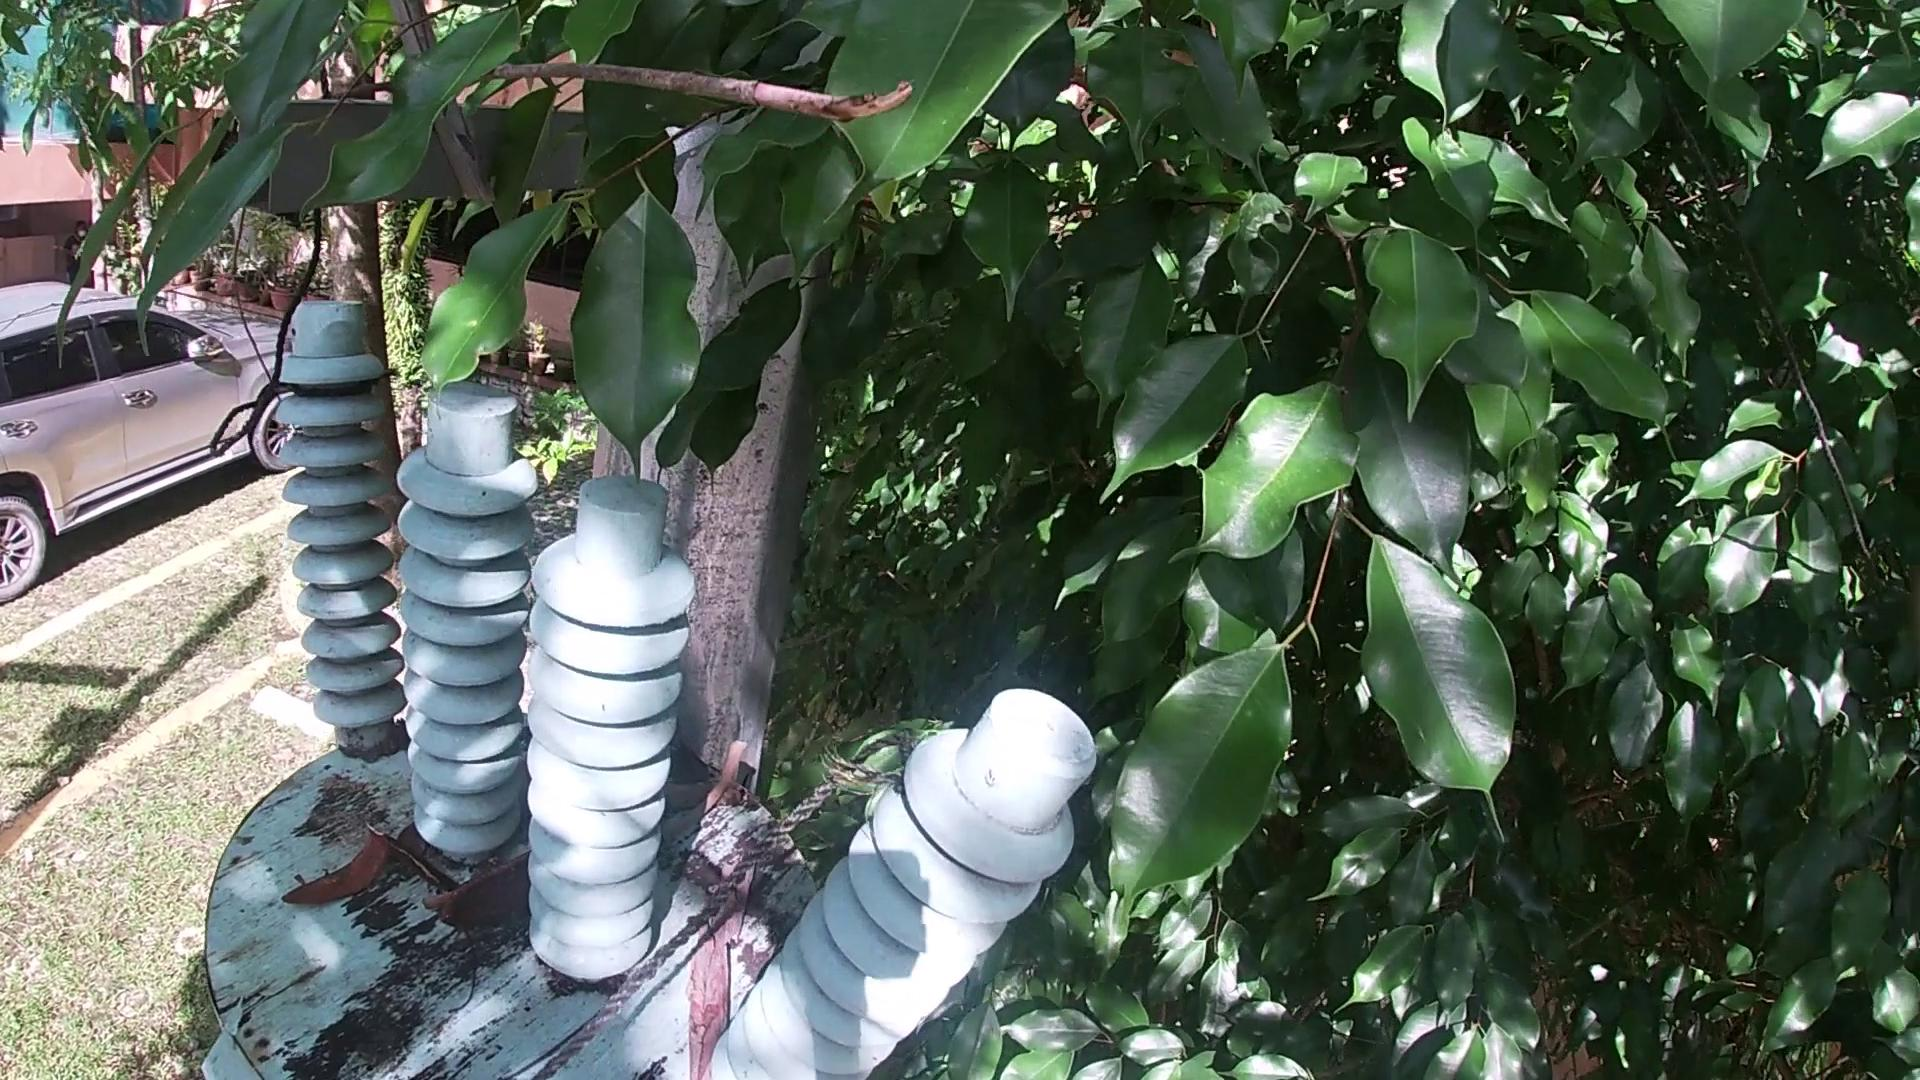leaf: (396, 832, 456, 894)
mahogany fruit: (281, 825, 378, 935), (442, 858, 533, 948)
tree branch: (309, 65, 919, 113), (687, 835, 771, 1077), (663, 741, 753, 841), (658, 787, 752, 810), (411, 891, 440, 913)
